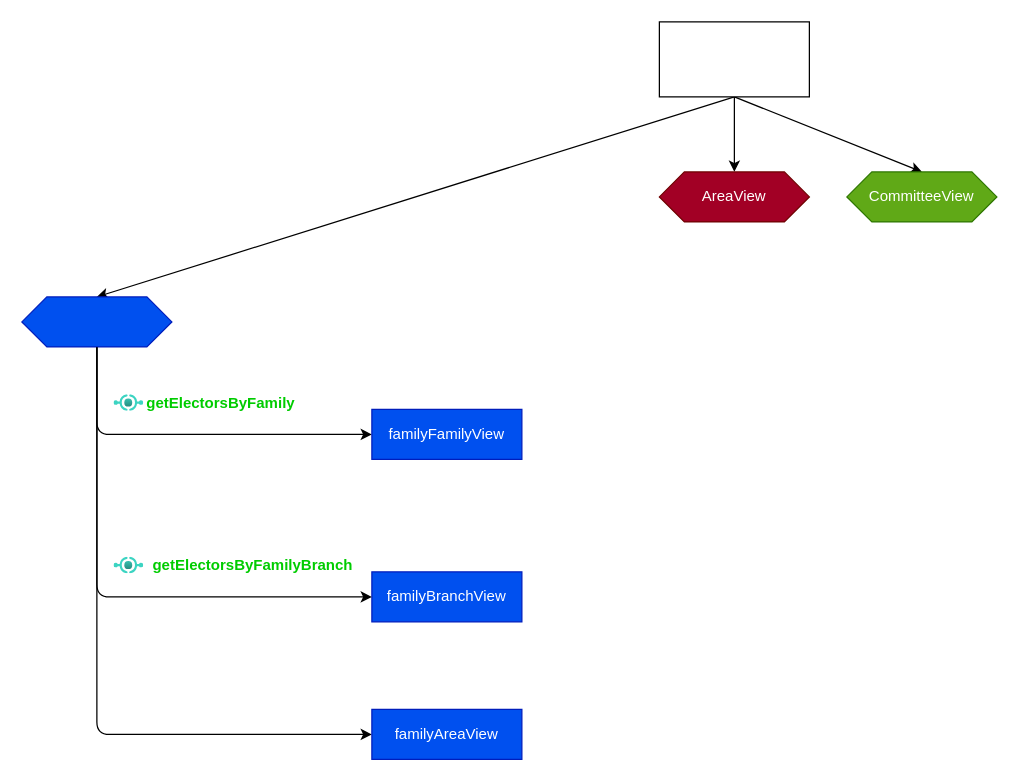
This 1019x781 diagram has some shape labels left out. The shapes that lost their labels are listed below. From the top down, each one's centre as x and y in pixels, then its label:
At (733,59): "electorsChartView".
At (96,321): "FamilyView".
